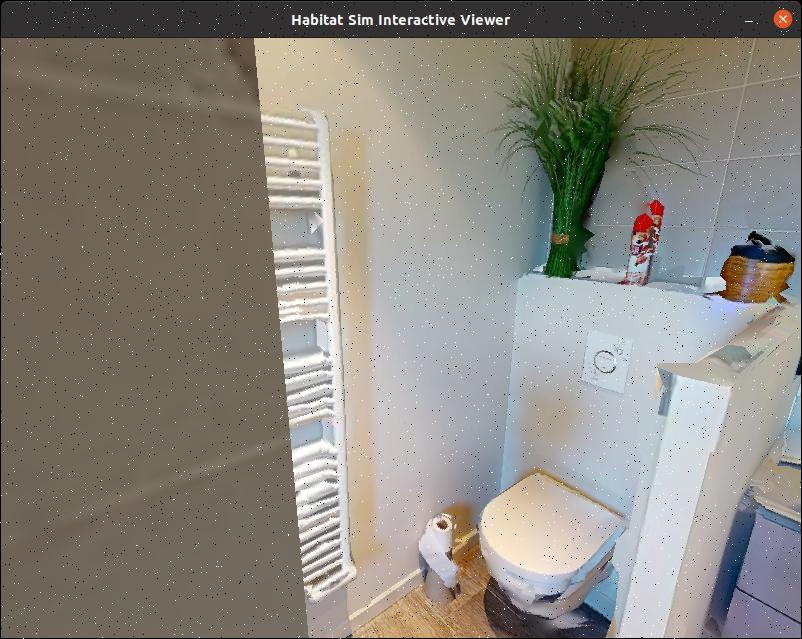toilet: (421, 409, 638, 639)
